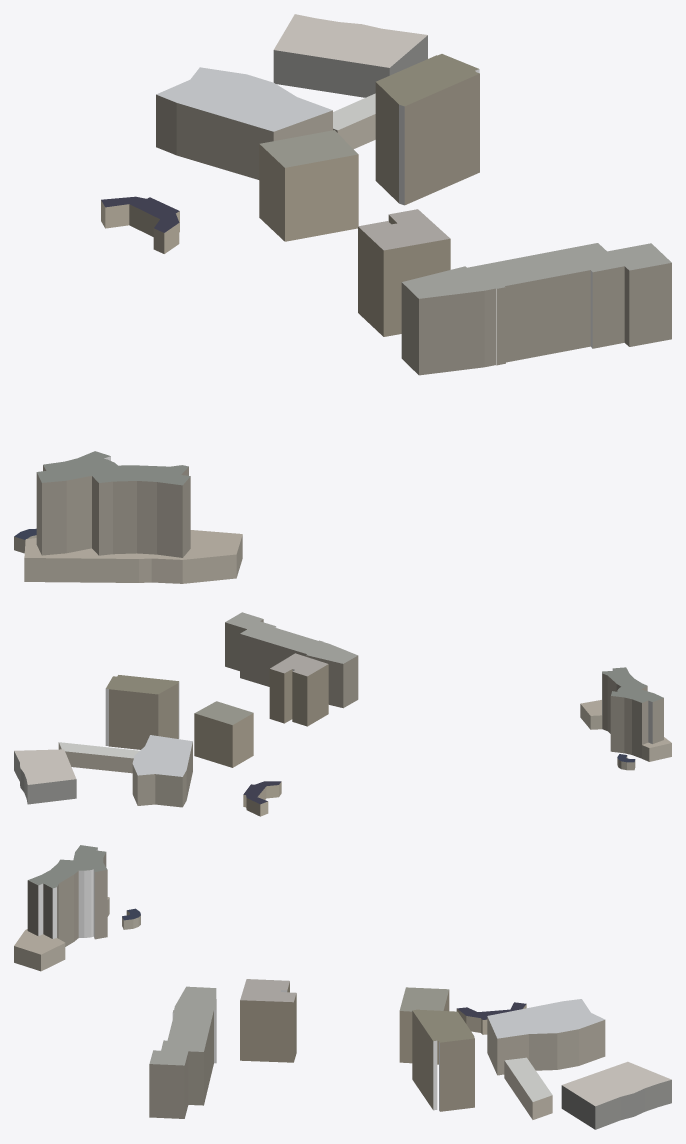
3 renders of one model, top to bottom at view 1: azimuth 30°, elevation 25°; view 2: azimuth 150°, elevation 25°; view 3: azimuth 270°, elevation 25°, orthographic. The views are drawn at different scales.
Visible parts, largest first — view 1: tuile; view 2: tuile; view 3: tuile.
Part boxes in pixels (<box>): tuile: <box>14,14,671,583</box>; tuile: <box>14,612,671,816</box>; tuile: <box>14,845,671,1129</box>.
Bounding box in the file's own units: 252 × 48.58 × 267.
